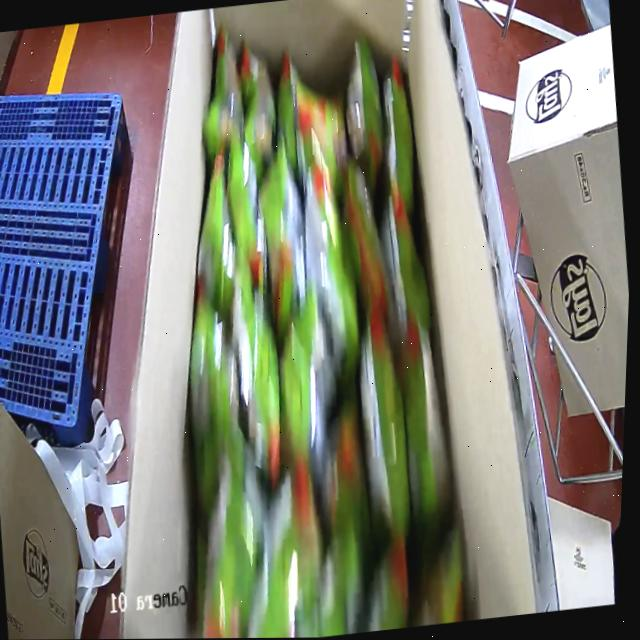YOGURT_HERB: (140, 53, 474, 639)
